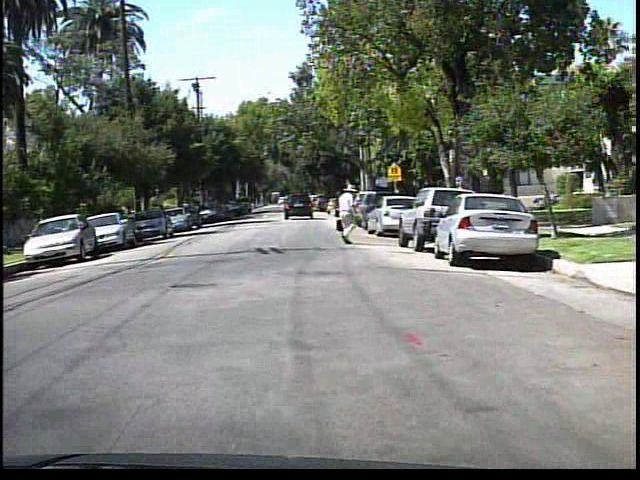person: (333, 183, 365, 244)
